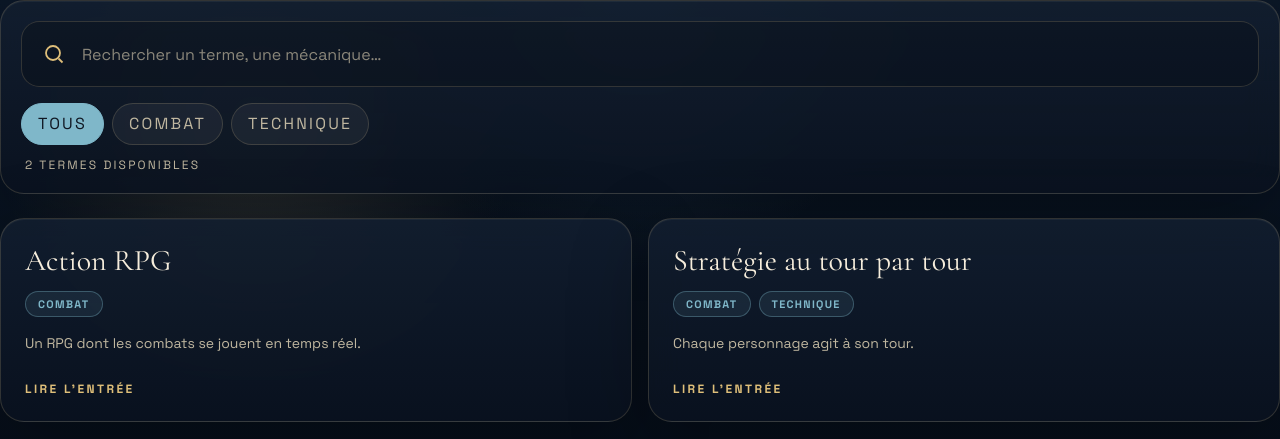
it: GlossaryIndex › cherche aussi dans la description et affiche un état vide utile
Type "combats" into the search field at (660, 54), box [82, 22, 1238, 86]
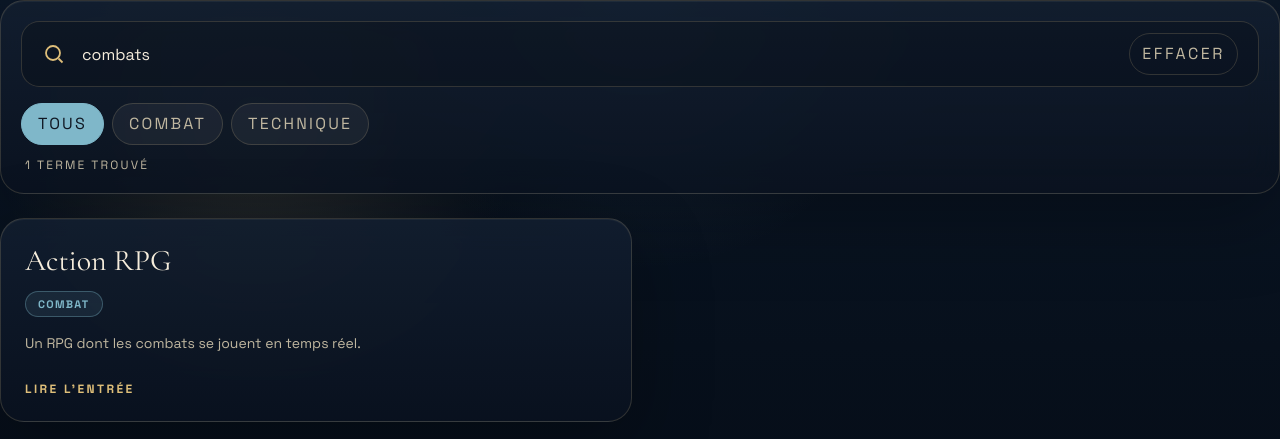
Expected: the heading "Action RPG" is shown, [25, 242, 172, 279]
Replace the text in the search field with "introuvable" at (598, 54), box [82, 22, 1113, 86]
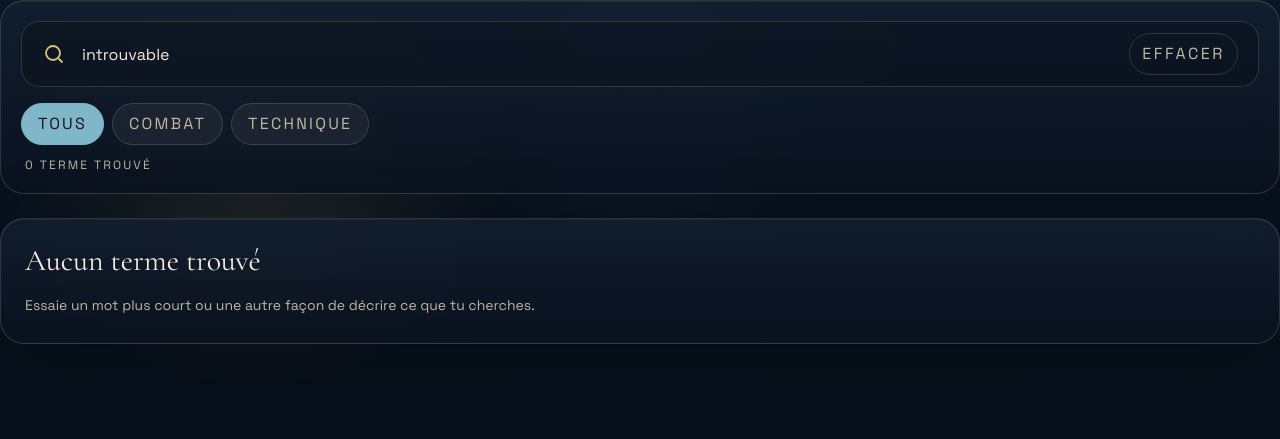
Expected: the heading "Aucun terme trouvé" is shown, [25, 242, 261, 279]
